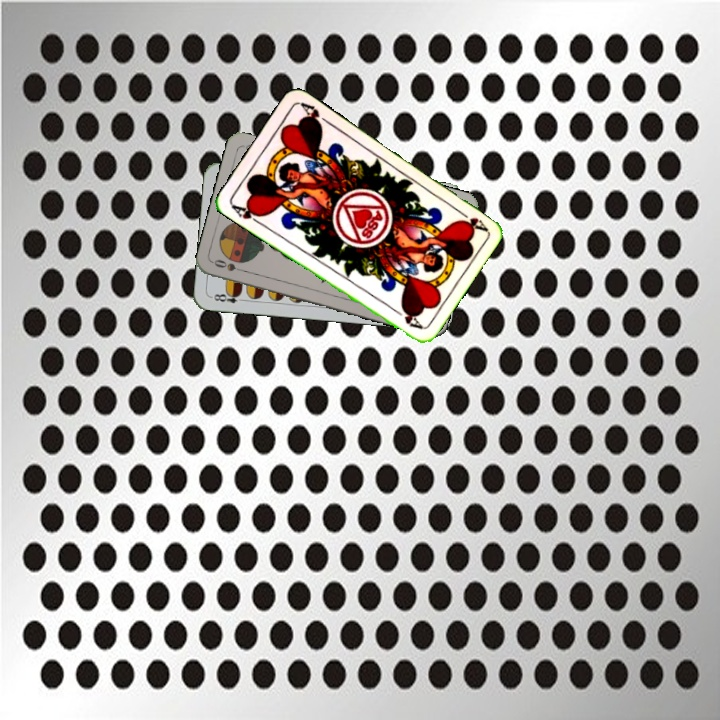E8: (208, 288, 248, 306)
HA: (453, 205, 489, 234), (228, 201, 266, 228)
SO: (210, 255, 250, 275)
